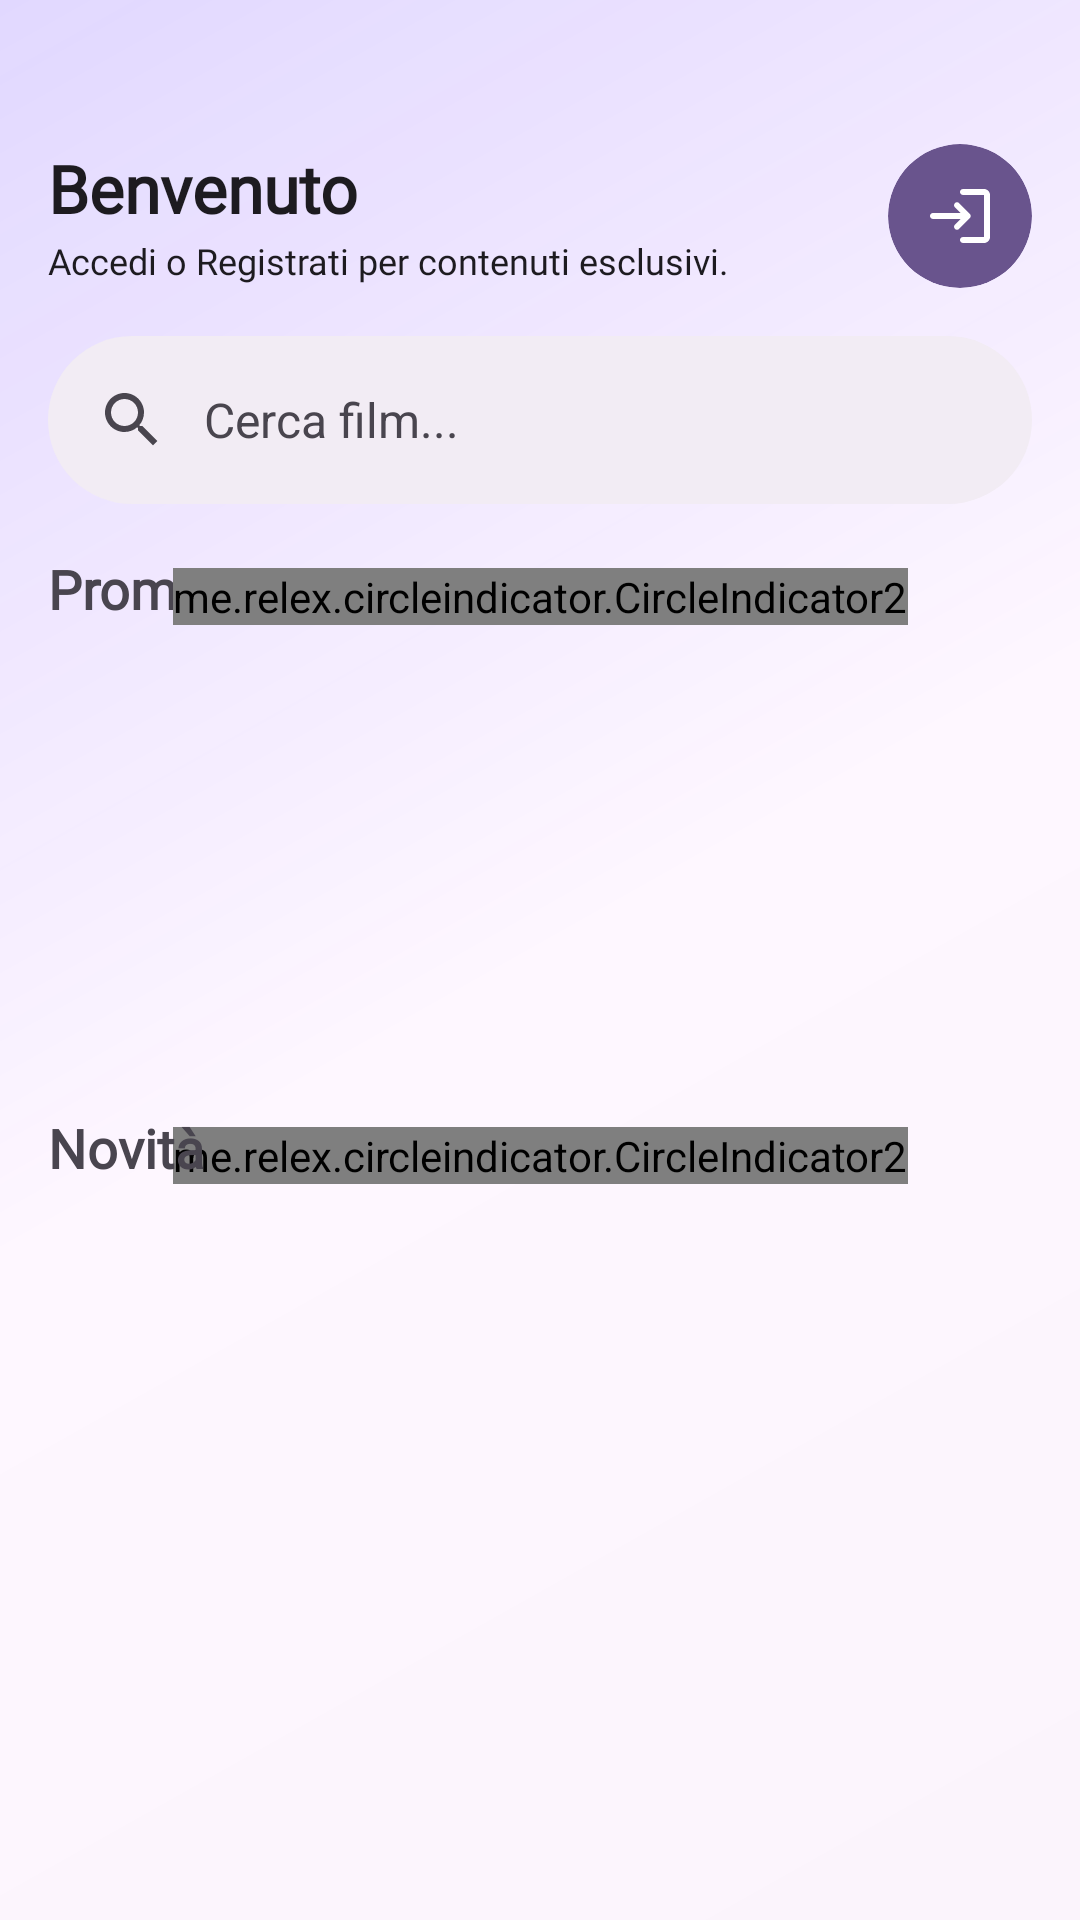

Icon click points for this 1080px x 1920px phone screenshot, format point (x, y):
login: point (960, 216)
